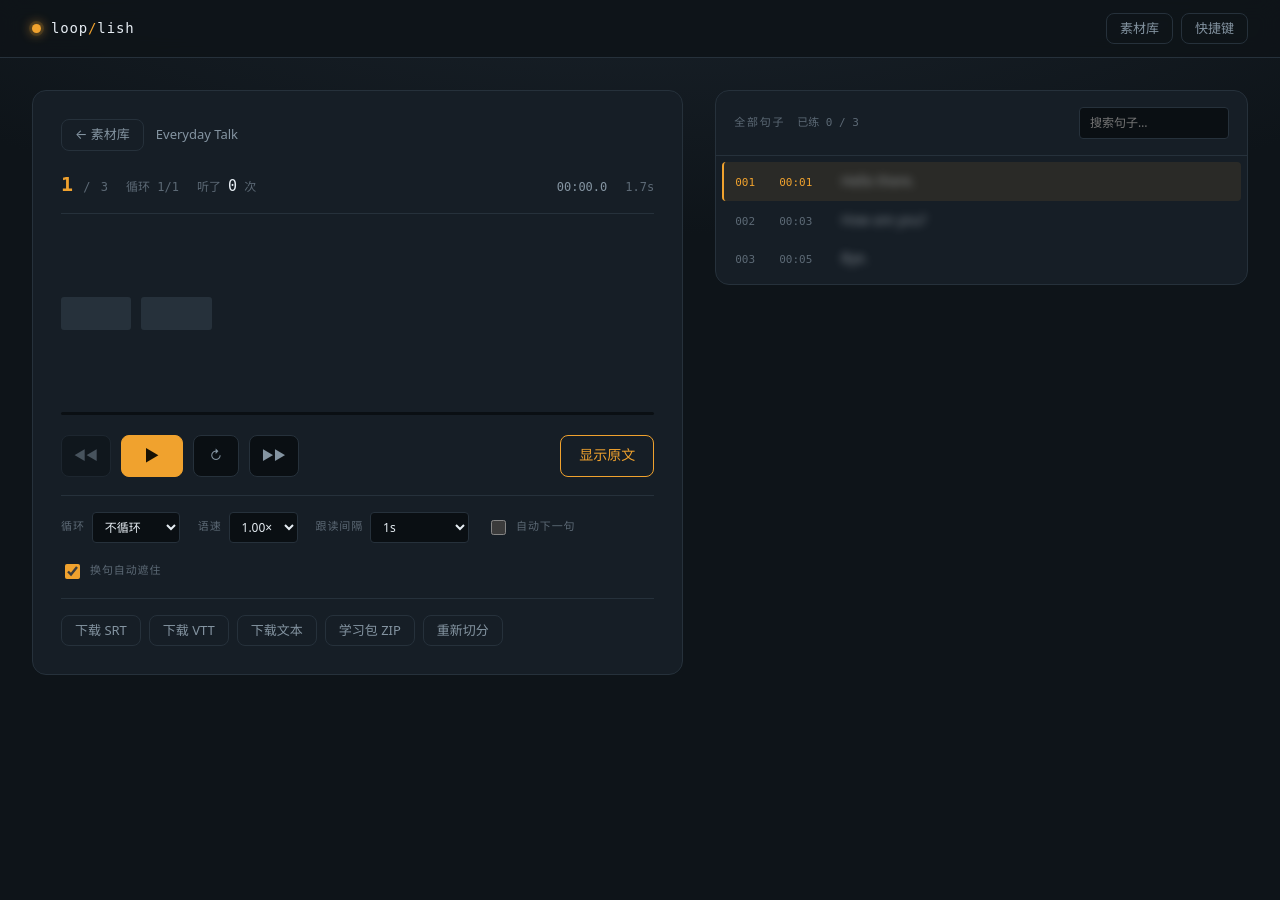
Scenario: sentence reel › blurs the list while the current sentence is veiled and lets search reveal matches
Expected: the heading named "第 1 / 3 句" is shown, [61, 169, 108, 199]
Expected: the button "002 00:03 How are you?" is shown, [722, 200, 1241, 239]
Type "how" into the search field labelled "搜索句子".
click(1154, 123); type("how")  # box [1079, 107, 1229, 139]
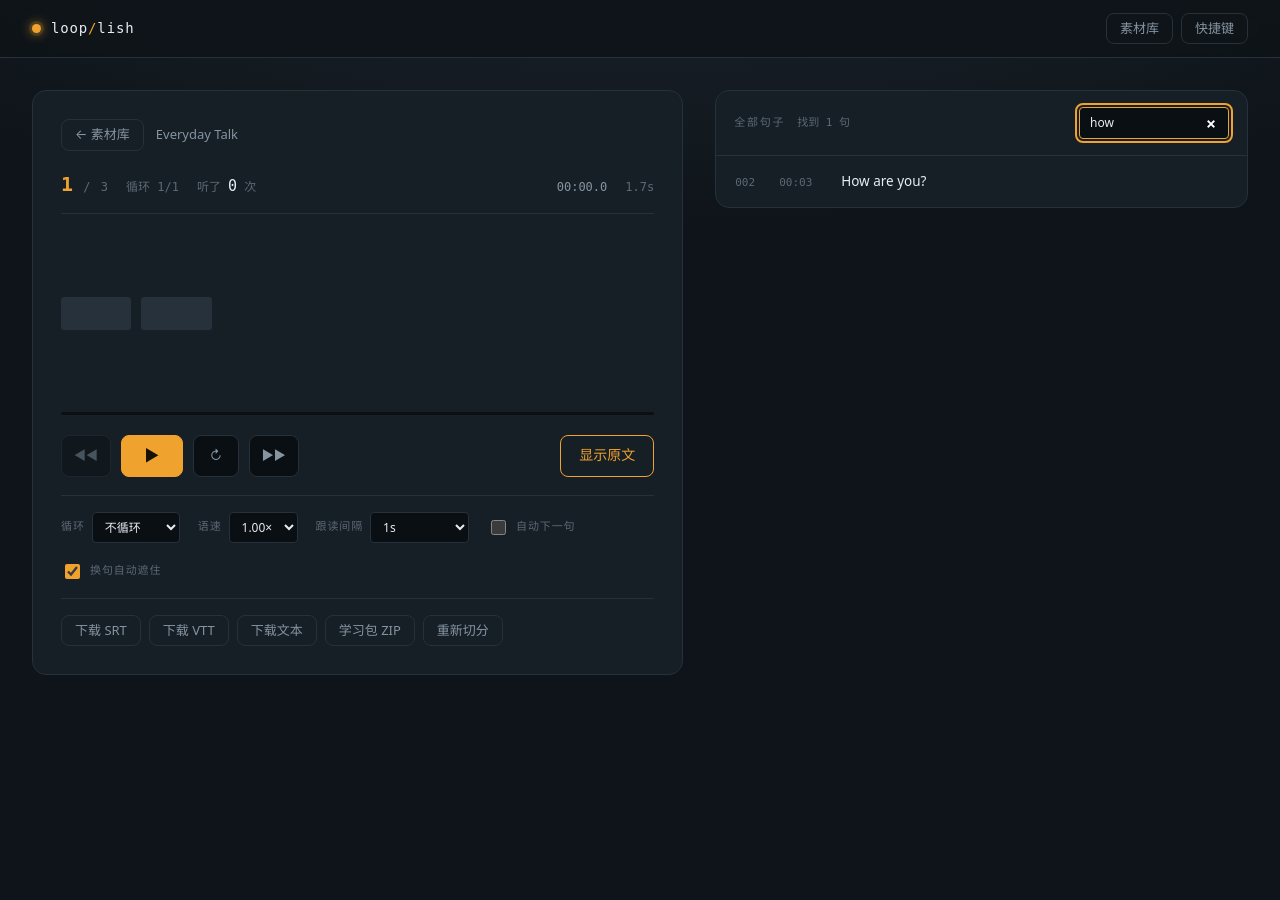
Expected: the text "找到 1 句" is shown, [797, 115, 850, 131]
Click the button named "第 2 句".
click(796, 182)  # box [722, 162, 1241, 200]
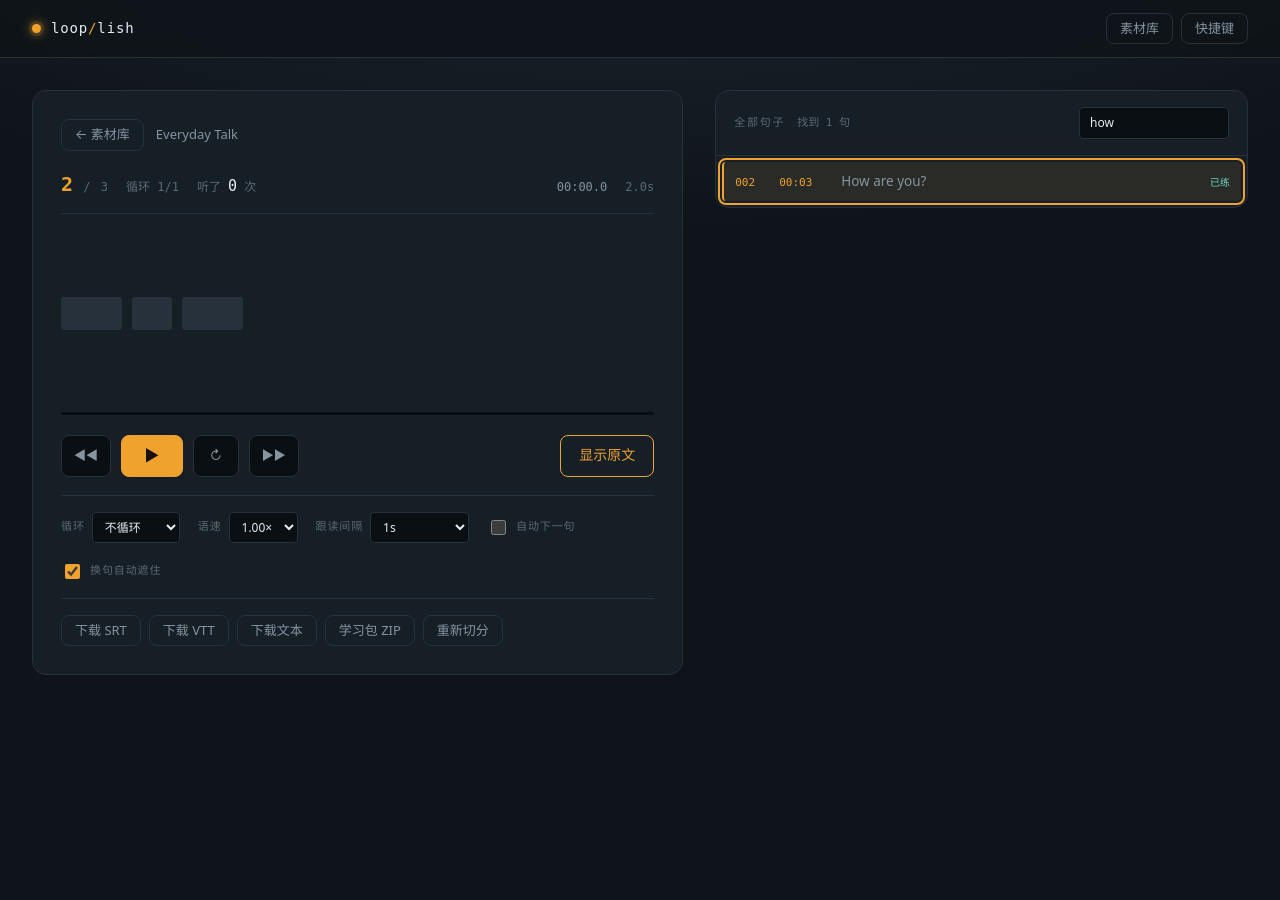
Expected: the button named "第 2 句" shows "已练", [722, 162, 1241, 200]
